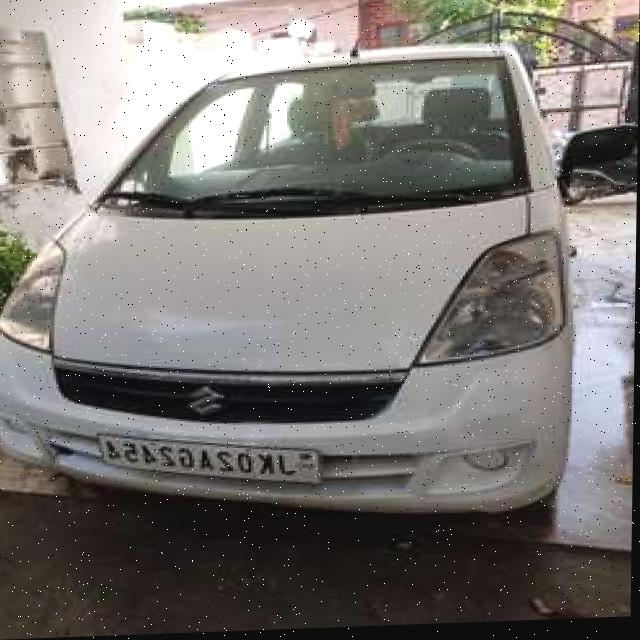plate: (97, 426, 328, 492)
